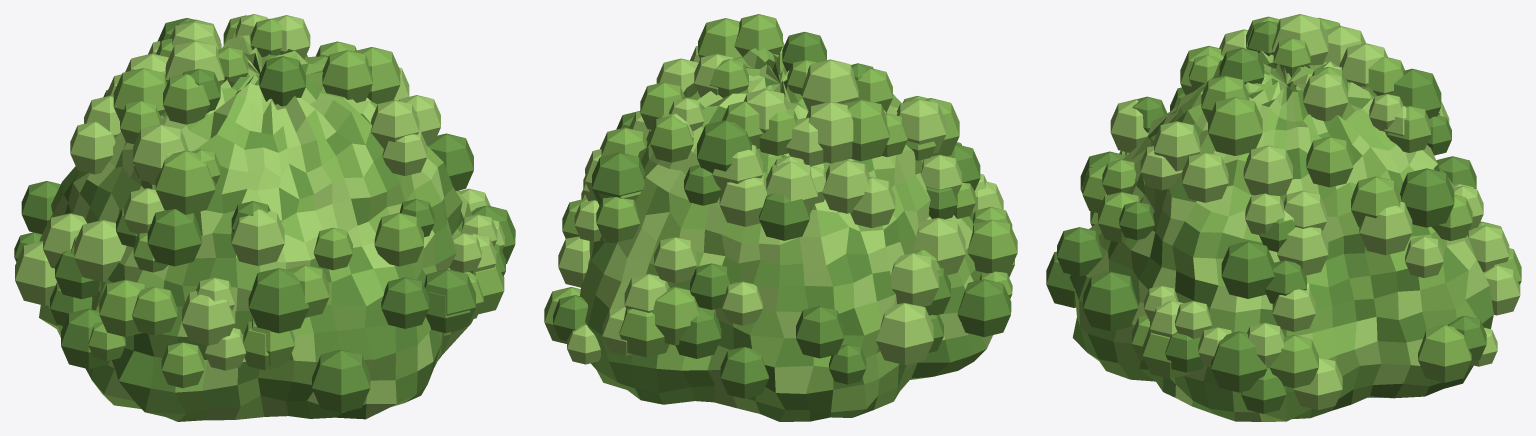
Rendered from bush_small.obj.
3 views of the same model, side by side, from view 1: azimuth 30°, elevation 25°; view 2: azimuth 150°, elevation 25°; view 3: azimuth 270°, elevation 25° (orthographic). The views are drawn at different scales.
Size of the model in its own units: 0.9987 by 0.6585 by 0.9539.
